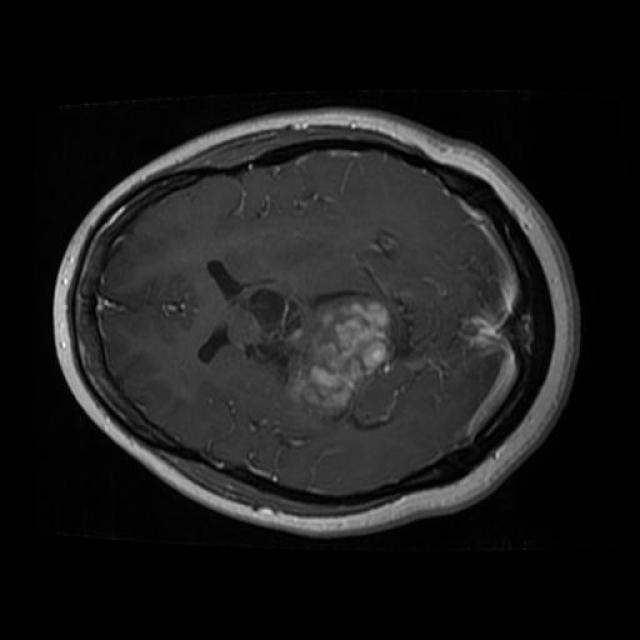Glioma: (292, 296, 393, 416)
